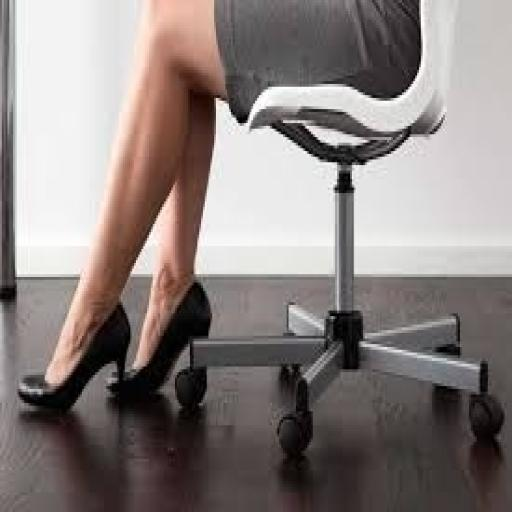sitting: (15, 0, 428, 414)
